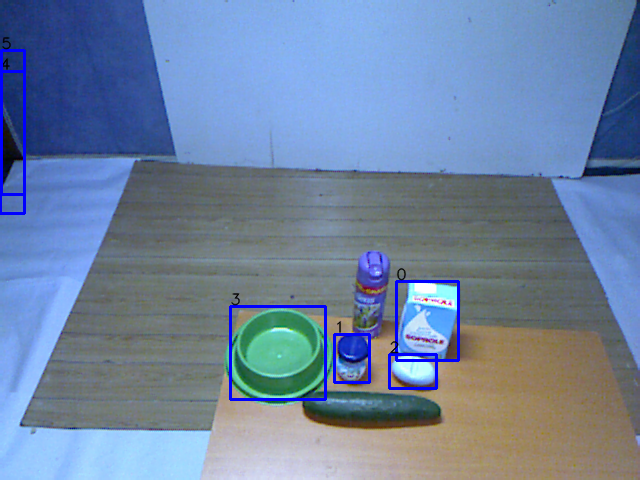aerosol: (346, 249, 392, 343)
crema: (332, 331, 373, 391)
jabon: (387, 349, 443, 393)
leche: (395, 275, 463, 365)
pepino: (298, 385, 446, 433)
platoperro: (222, 305, 336, 409)
